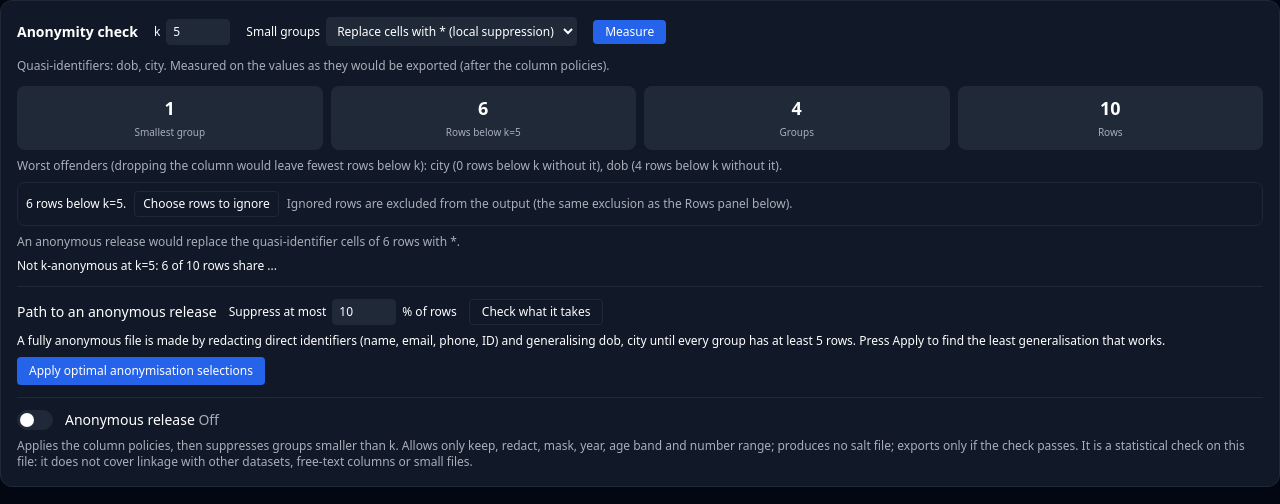
Scenario: AnonymityPanel k field › lets "10" be typed without clamping each keystroke, and clamps on blur
The image size is (1280, 504).
Replace the text in the number field named "Target k" with "1" at {"x": 198, "y": 32}, box [166,18,230,44]
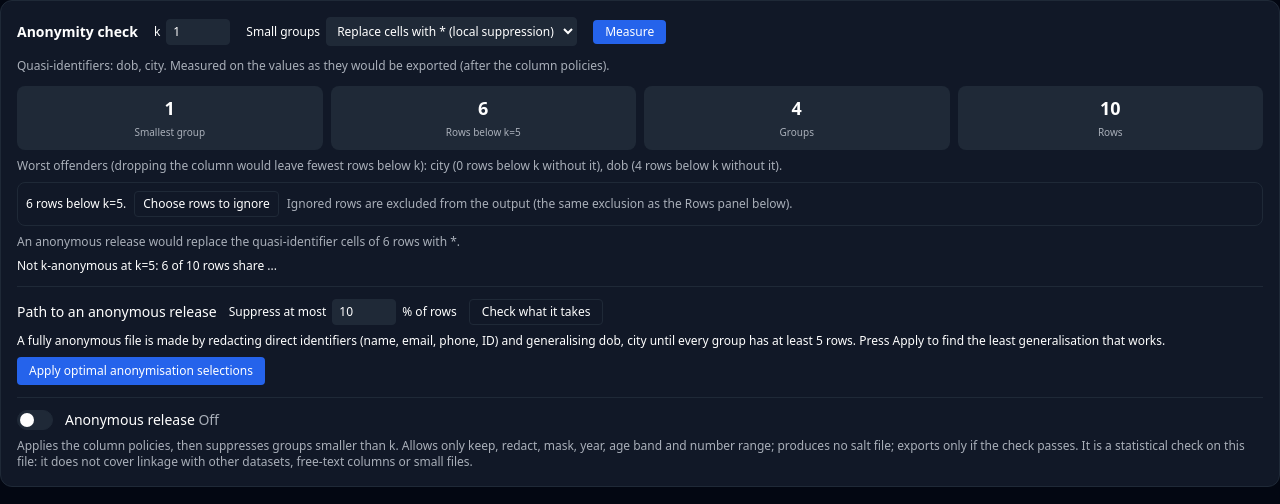
Replace the text in the number field named "Target k" with "10" at {"x": 198, "y": 32}, box [166,18,230,44]
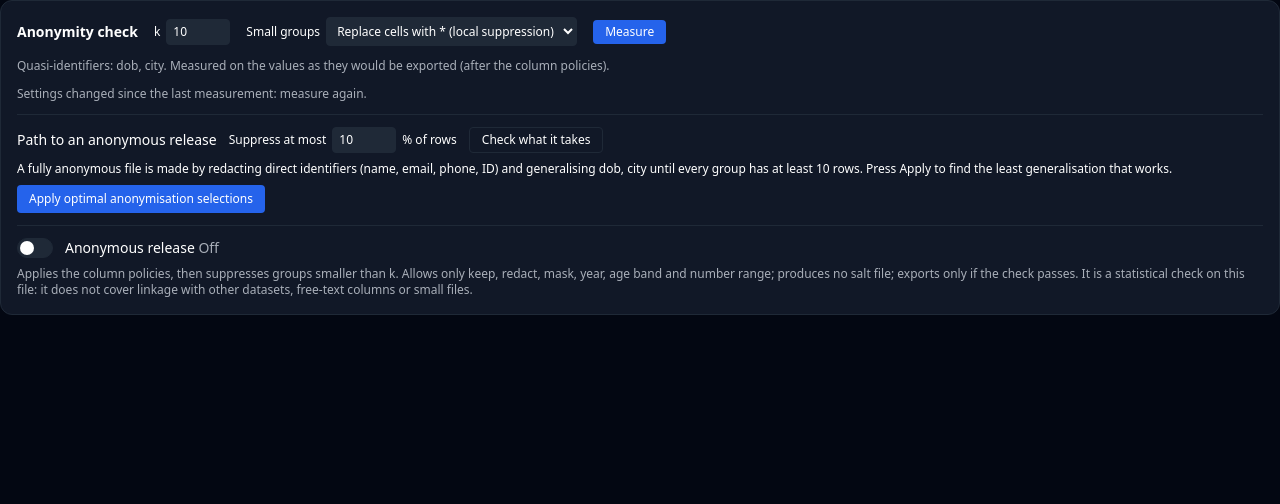
Replace the text in the number field named "Target k" with "999" at {"x": 198, "y": 32}, box [166,18,230,44]
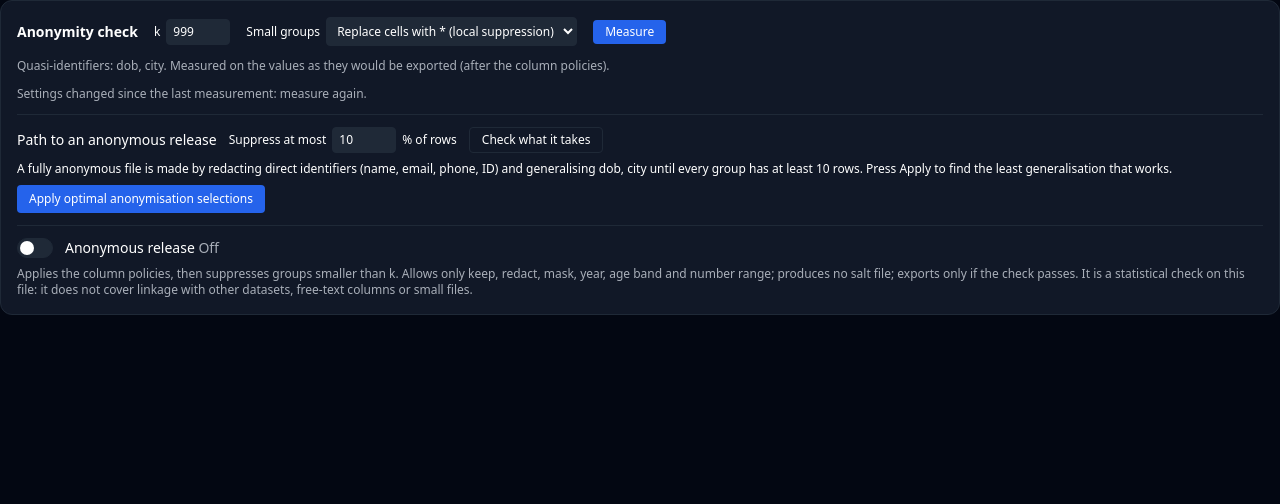
Leave the number field named "Target k", box [166,18,230,44]
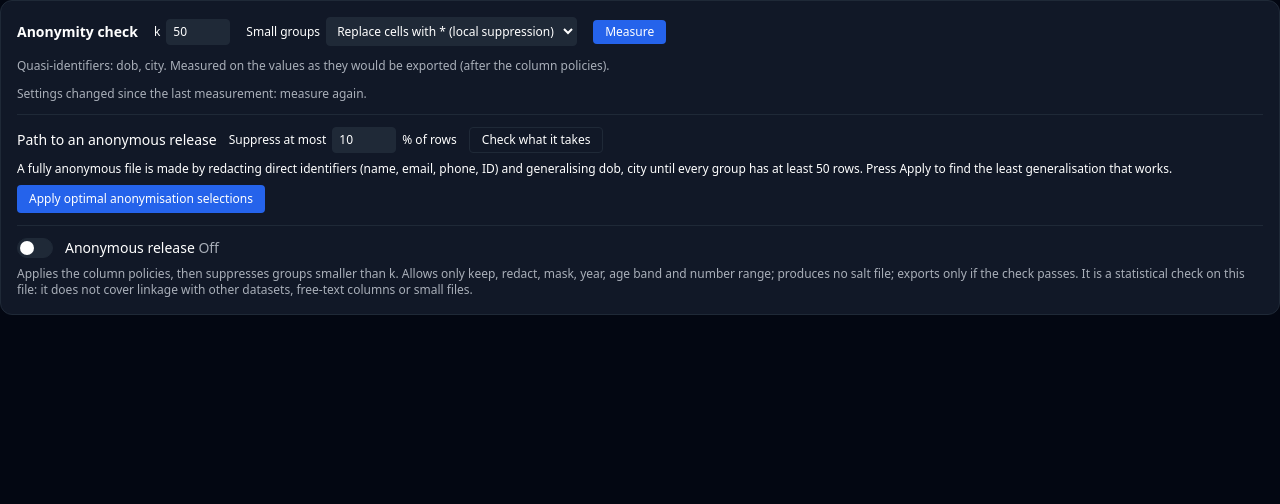
Expected: the number field named "Target k" holds "50", [166,18,230,44]
